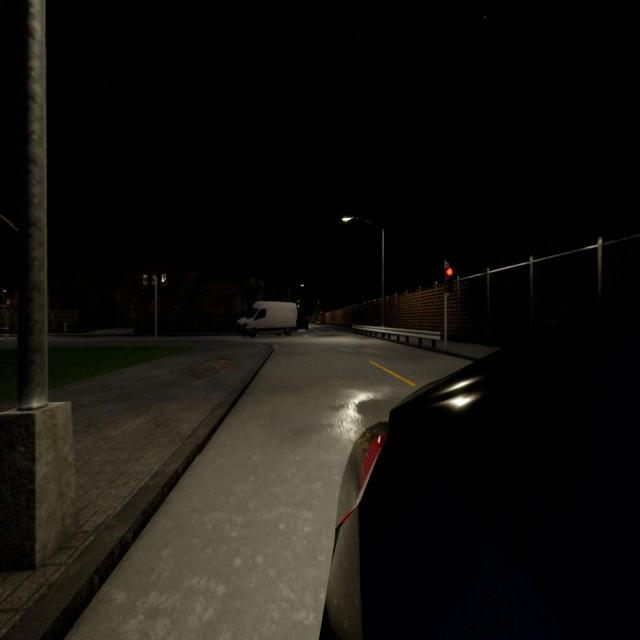Vehicle: (320, 271, 640, 637), (236, 300, 299, 334)
traffic_light: (444, 267, 452, 293)
